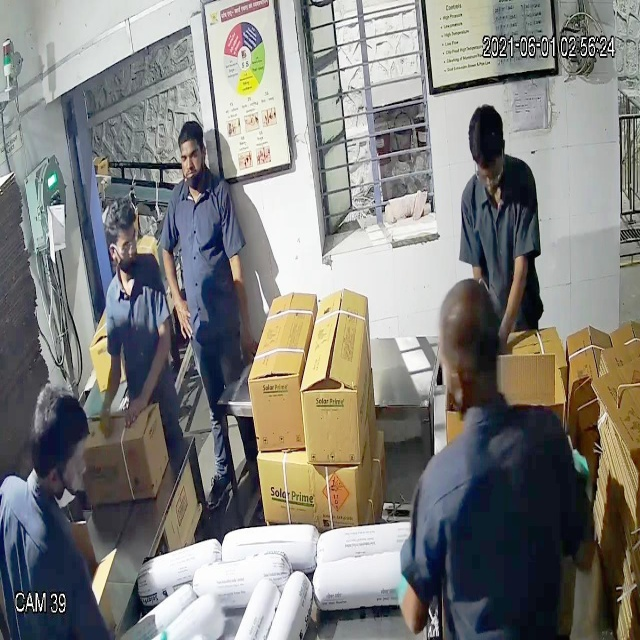Gafas: (470, 148, 508, 190), (102, 229, 146, 261)
